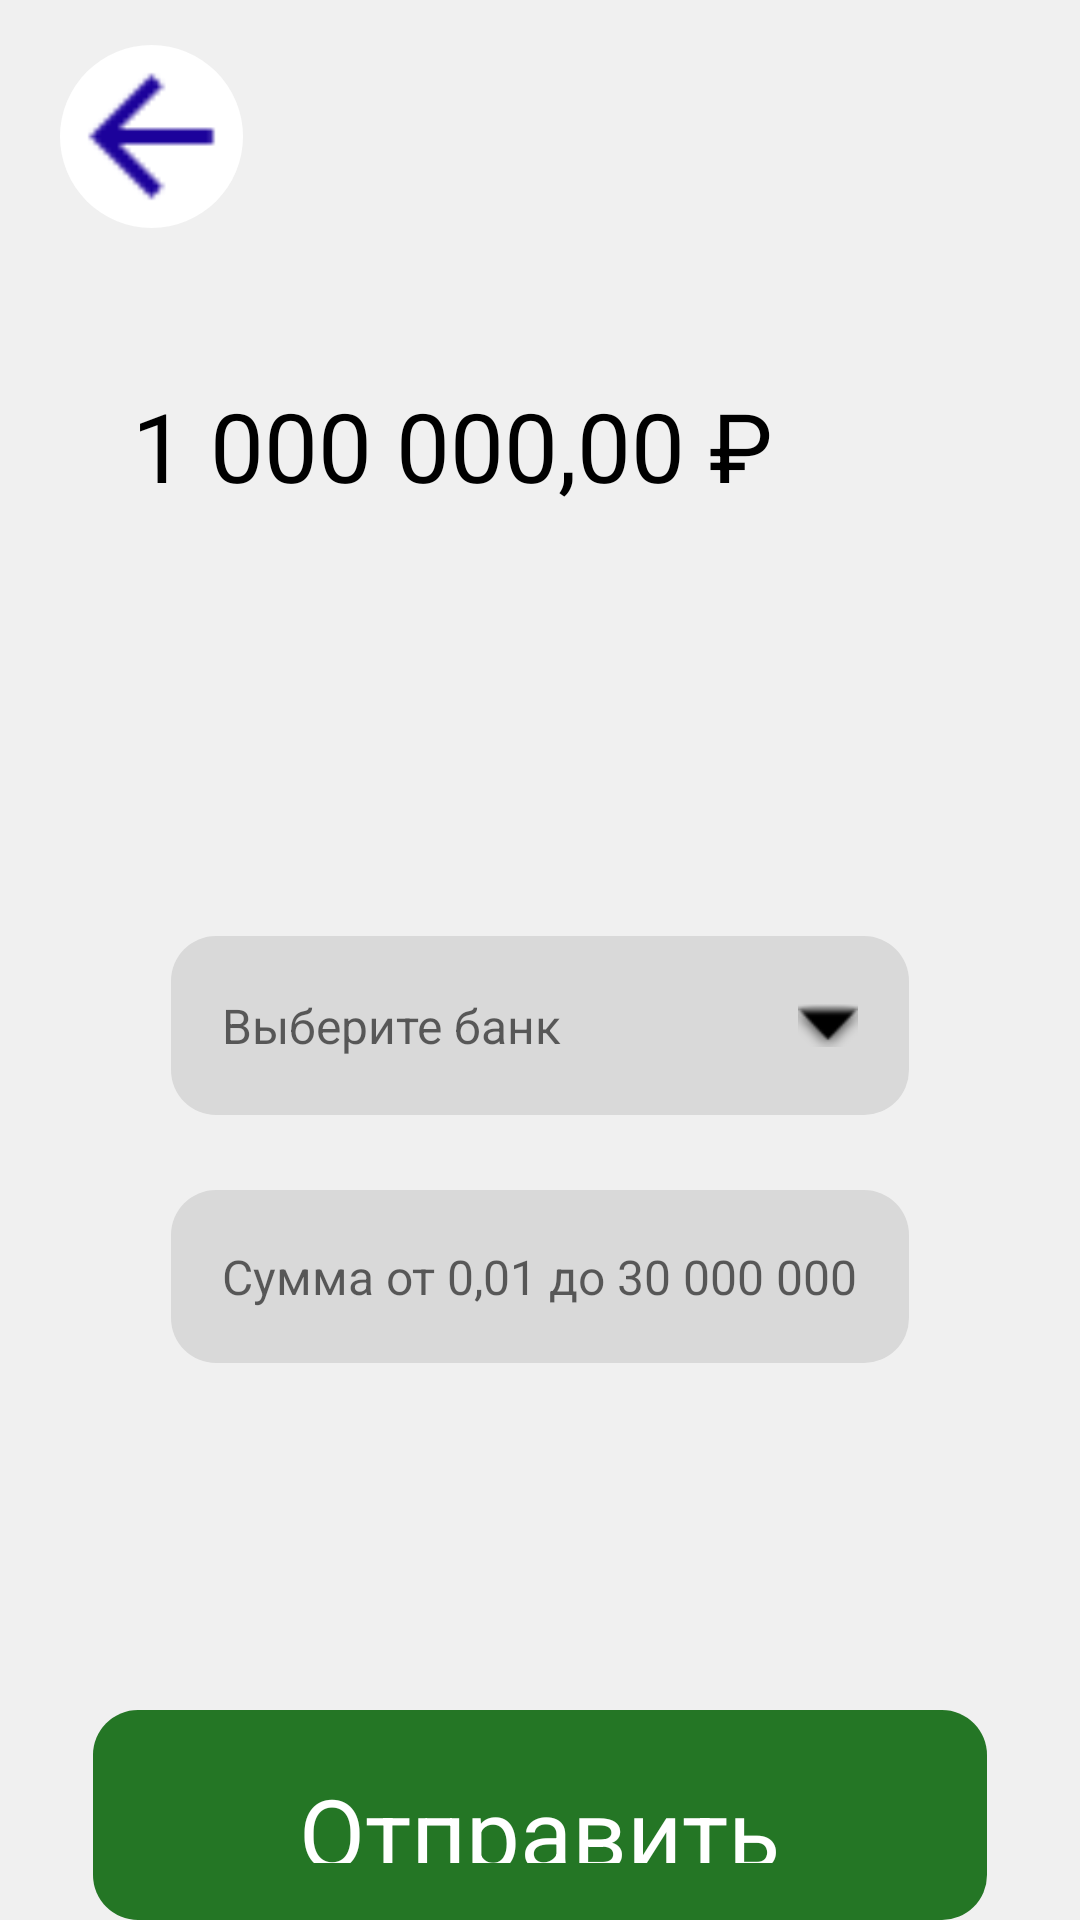

Icons on this 1080 × 1920 Android screen, each with the point to tap as [x,y]:
arrow down float: [828,1025]
back: [151,136]
